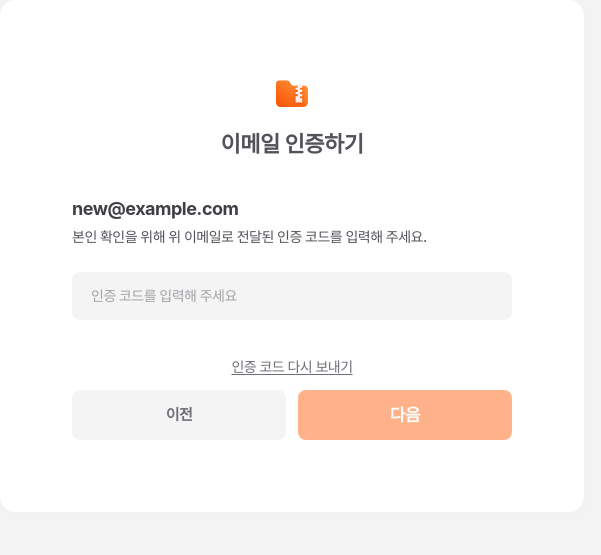
it: SignupEmailVerificationForm › shows the designed message for an invalid or expired code
In the field labelled "인증 코드": coordinates (292, 296) 91,285 -> 493,307, type "123456"
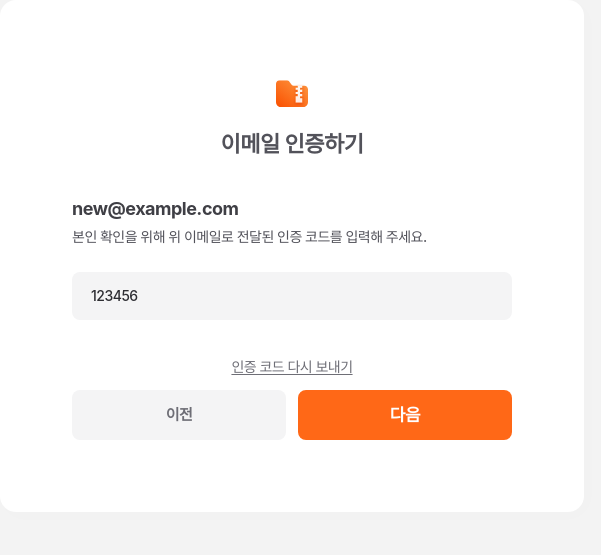
Click the button "다음": coordinates (405, 415) 298,390 -> 512,440
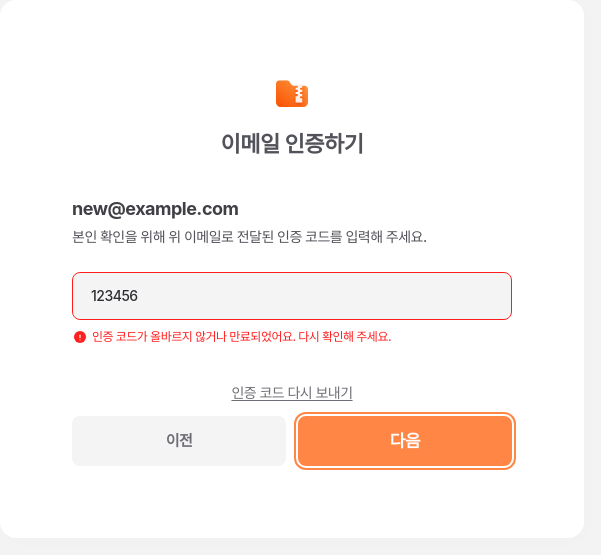
Result: the message reads "인증 코드가 올바르지 않거나 만료되었어요. 다시 확인해 주세요." at 92,329 -> 391,344
